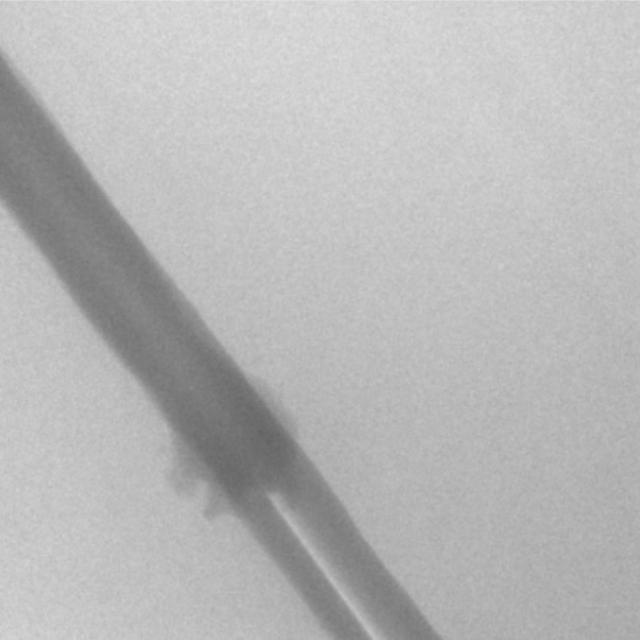broken-arc: (264, 491, 390, 640)
